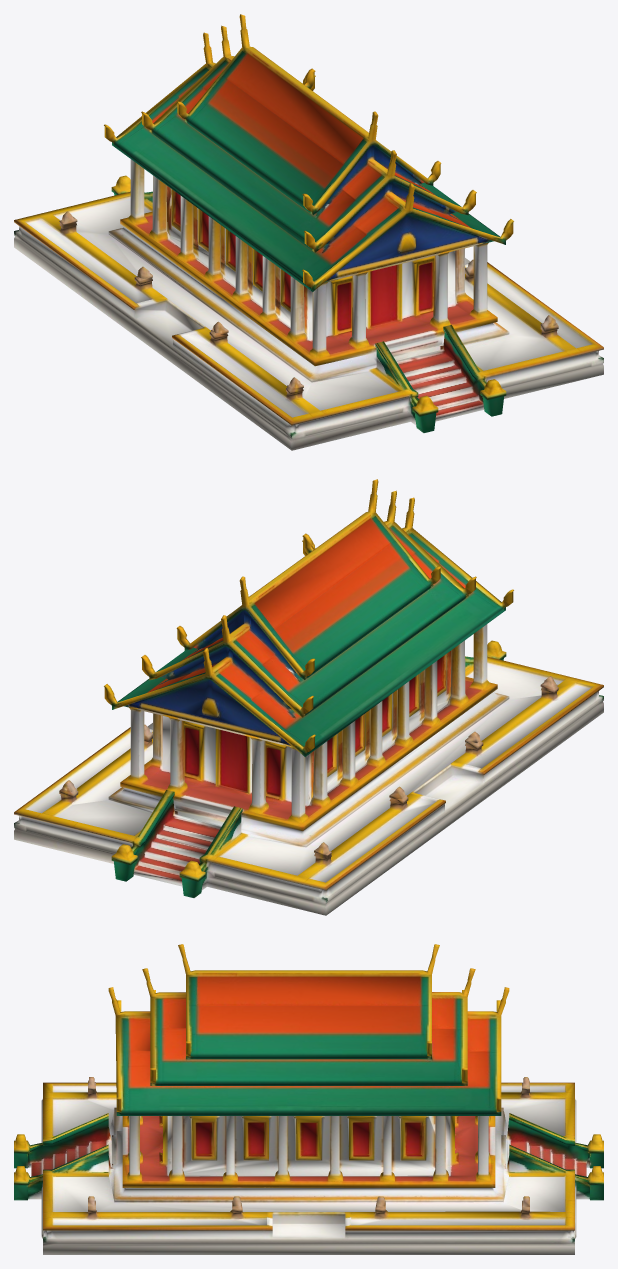
Rendered from watklang.glb.
3 views of the same model, one above another, from view 1: azimuth 30°, elevation 25°; view 2: azimuth 150°, elevation 25°; view 3: azimuth 270°, elevation 25° (orthographic). The views are drawn at different scales.
Parts seen in each view (by area): view 1: tripo_node_0e9f45b4-fc83-40b8-8cc6-176f4fd4a5e1; view 2: tripo_node_0e9f45b4-fc83-40b8-8cc6-176f4fd4a5e1; view 3: tripo_node_0e9f45b4-fc83-40b8-8cc6-176f4fd4a5e1.
Part boxes in pixels (x1,y1,x2,y2): tripo_node_0e9f45b4-fc83-40b8-8cc6-176f4fd4a5e1: (14, 14, 603, 450); tripo_node_0e9f45b4-fc83-40b8-8cc6-176f4fd4a5e1: (14, 479, 603, 915); tripo_node_0e9f45b4-fc83-40b8-8cc6-176f4fd4a5e1: (14, 944, 603, 1254).
Bounding box in the file's own units: 0.5722 × 0.4344 × 0.9779.
1 material, 1 textured.
